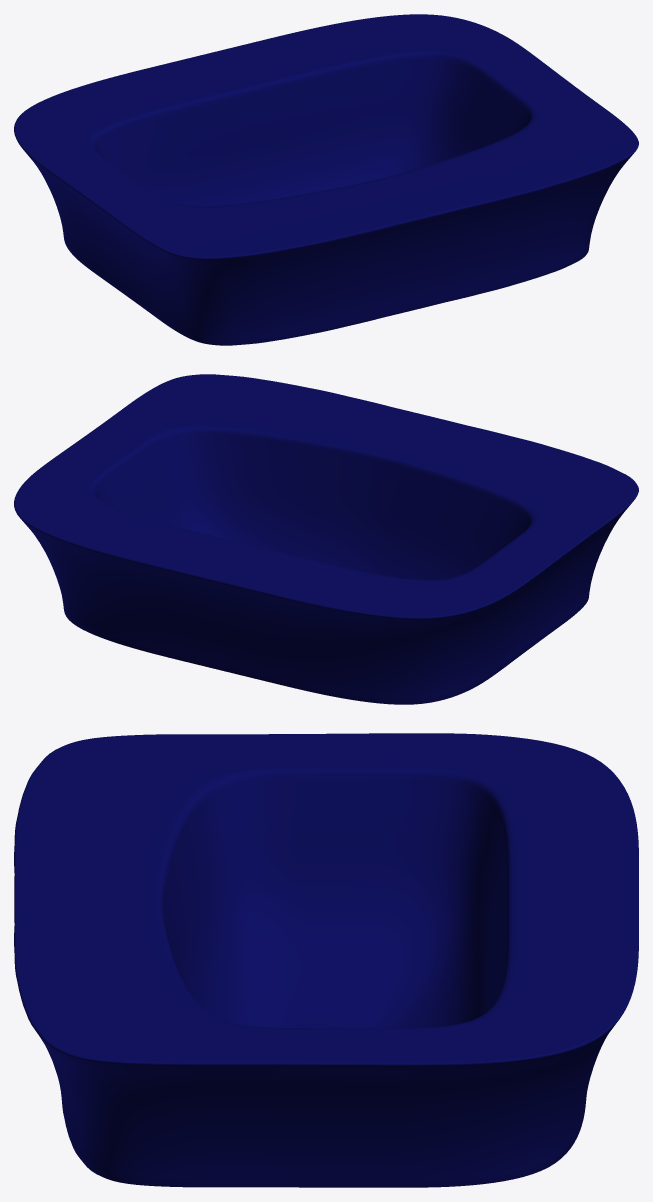
The model's file is Sink_004.glb.
The picture shows the model from 3 angles, top to bottom: view 1: azimuth 30°, elevation 25°; view 2: azimuth 150°, elevation 25°; view 3: azimuth 270°, elevation 25°; orthographic projection. The views are drawn at different scales.
Visible parts, largest first — view 1: q; view 2: q; view 3: q.
Boxes of the visible parts, box(x1,y1,x2,y2) form: q: box(14, 14, 638, 345); q: box(14, 374, 638, 704); q: box(14, 733, 638, 1187).
Bounding box in the file's own units: 5.45 × 1.71 × 4.35.
Materials: 1 (1 with a texture image).
